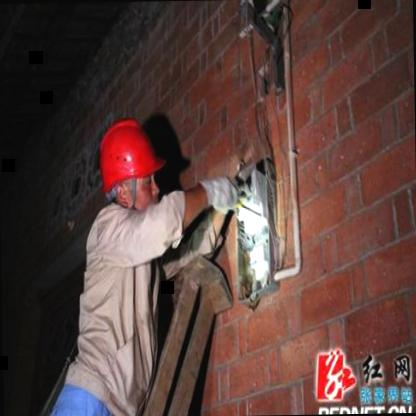helmet: (92, 116, 164, 220)
